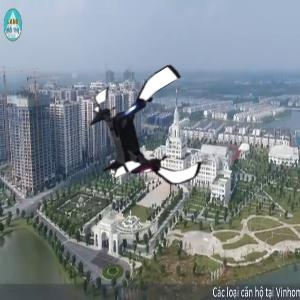drone: (84, 71, 214, 201)
